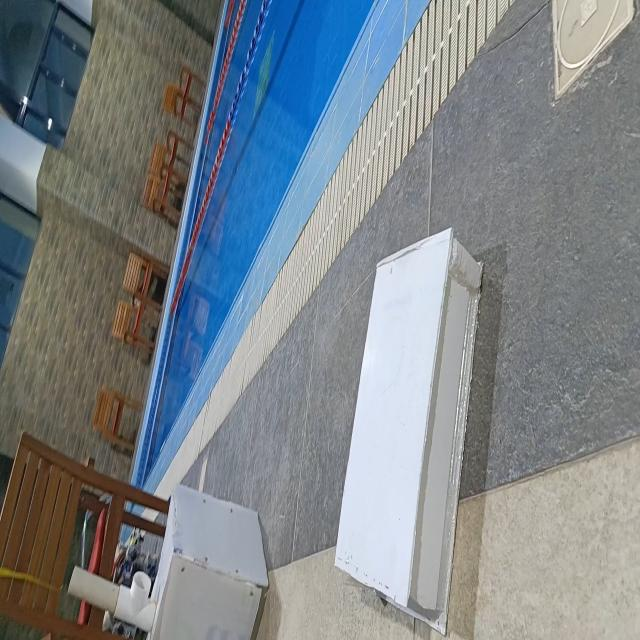Cube: (147, 482, 269, 638)
Cuboid: (332, 225, 483, 634)
